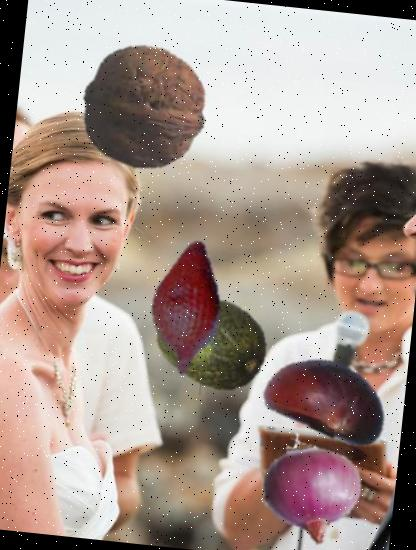Chestnut: (258, 327, 400, 469)
Melon: (149, 284, 273, 408)
Onion: (245, 421, 378, 550)
Salak: (110, 233, 262, 385)
Walnut: (74, 37, 216, 178)
